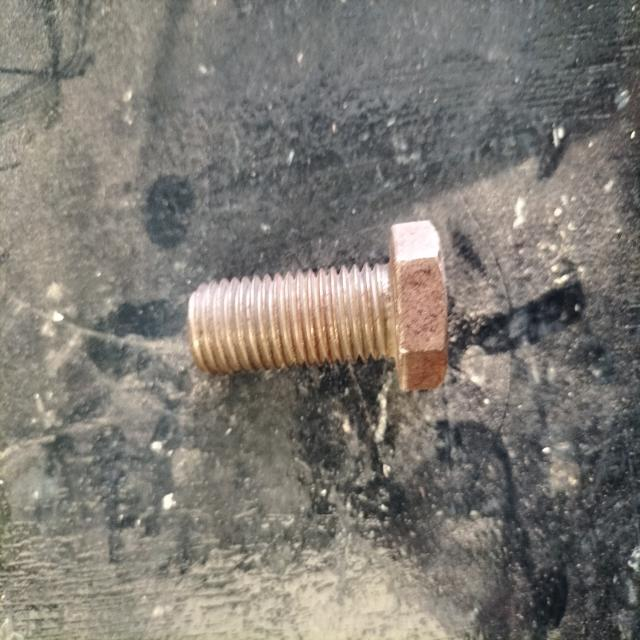bolt: (188, 220, 446, 392)
